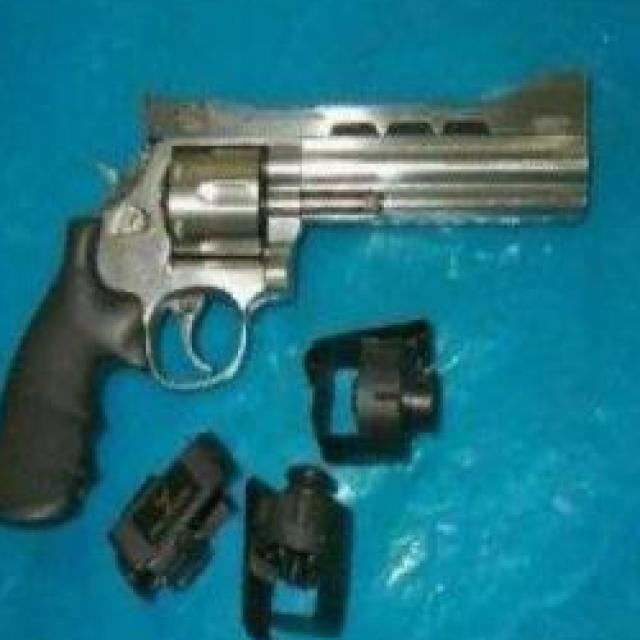pistol: (0, 64, 596, 535)
